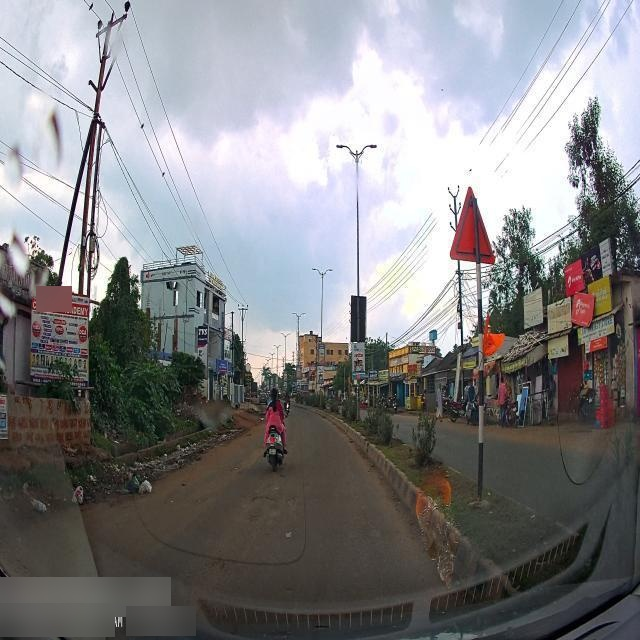pothole: (248, 482, 278, 514), (208, 551, 234, 583), (288, 492, 302, 518), (278, 467, 287, 480)
